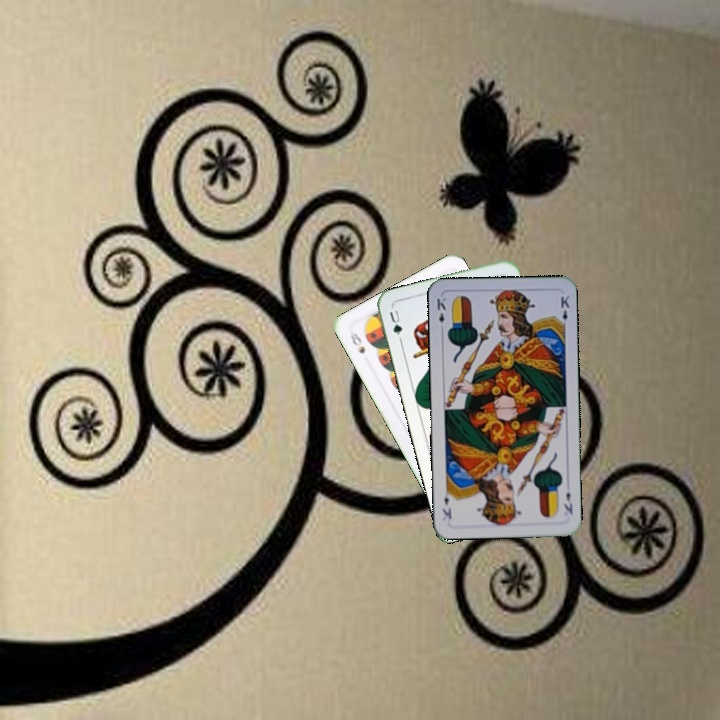EK: (433, 294, 448, 334), (560, 488, 575, 517)
GU: (385, 306, 405, 338)
S8: (345, 327, 368, 356)
